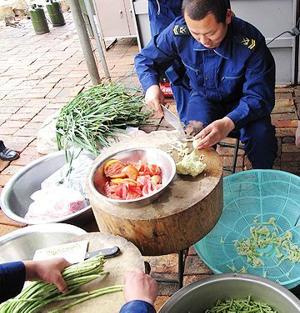person: (135, 2, 278, 170)
